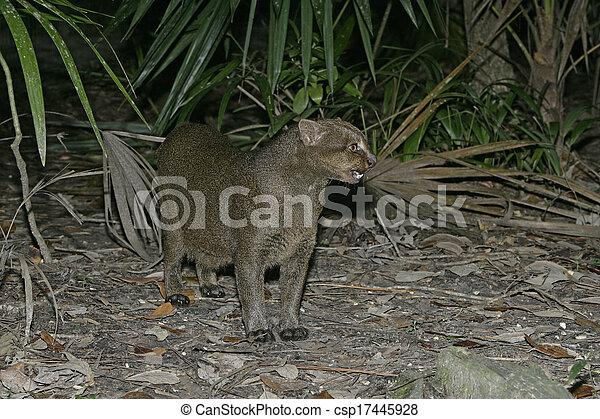Jaguarundi: (132, 115, 378, 347)
